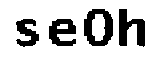0: (82, 6, 115, 50)
e: (46, 16, 78, 50)
h: (116, 7, 148, 52)
s: (11, 17, 40, 49)
